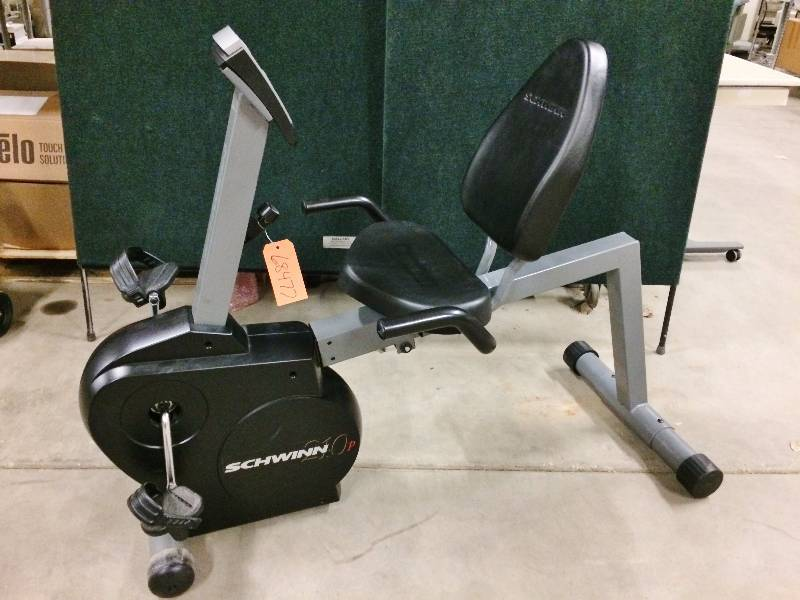gym_bike: (47, 27, 737, 593)
